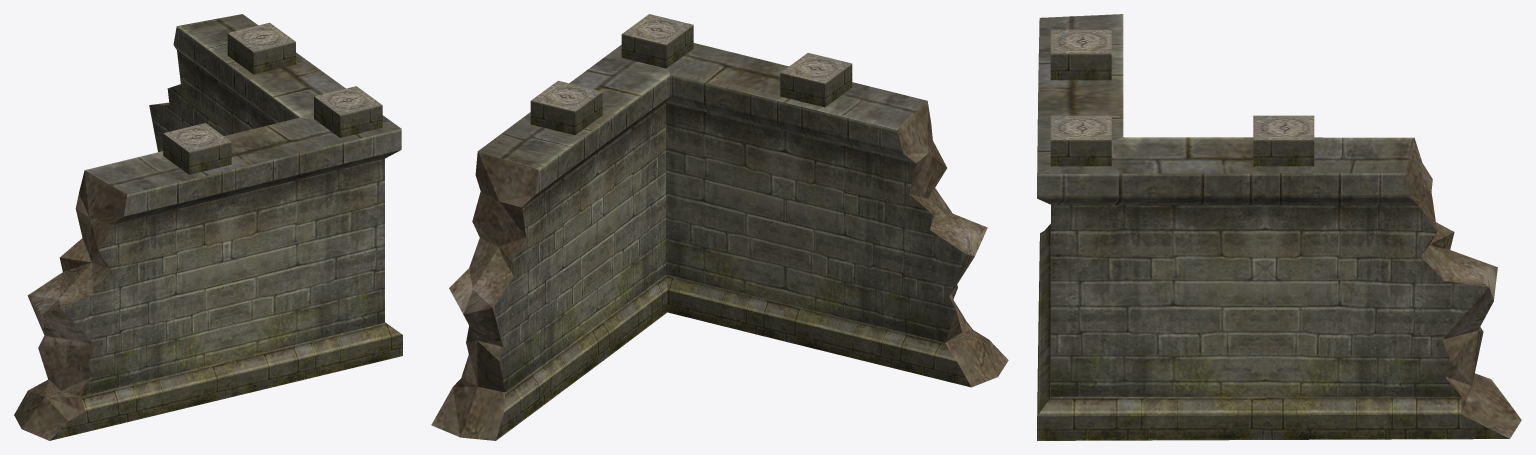
File: zshh_poqiang_05.FBX
The picture shows the model from 3 angles, left to right: view 1: azimuth 30°, elevation 25°; view 2: azimuth 150°, elevation 25°; view 3: azimuth 270°, elevation 25°; orthographic projection. The views are drawn at different scales.
Visible parts, largest first — view 1: zshh_poqiang_05; view 2: zshh_poqiang_05; view 3: zshh_poqiang_05.
Part boxes in pixels (box(x1,y1,x2,y2)): zshh_poqiang_05: box(14, 14, 402, 440); zshh_poqiang_05: box(431, 14, 1008, 440); zshh_poqiang_05: box(1037, 14, 1521, 440).
Size of the model in its own units: 524 by 521 by 347.
